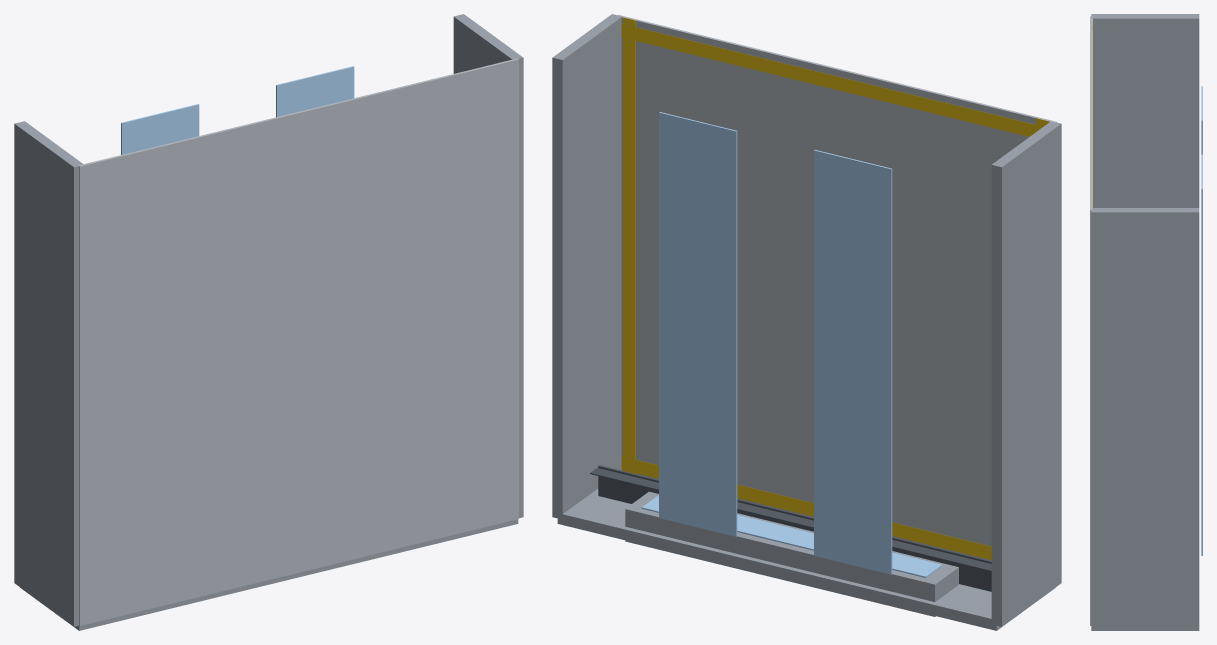
File: boss_arena.obj
The picture shows the model from 3 angles, left to right: view 1: azimuth 30°, elevation 25°; view 2: azimuth 150°, elevation 25°; view 3: azimuth 270°, elevation 25°; orthographic projection. The views are drawn at different scales.
Visible parts, largest first — view 1: BossArenaGLB; view 2: BossArenaGLB; view 3: BossArenaGLB.
Part boxes in pixels (bbox=[...]): BossArenaGLB: bbox=[14, 14, 523, 630]; BossArenaGLB: bbox=[552, 14, 1061, 630]; BossArenaGLB: bbox=[1090, 14, 1202, 630].
Bounding box in the file's own units: 34.8 × 34.7 × 8.36.
